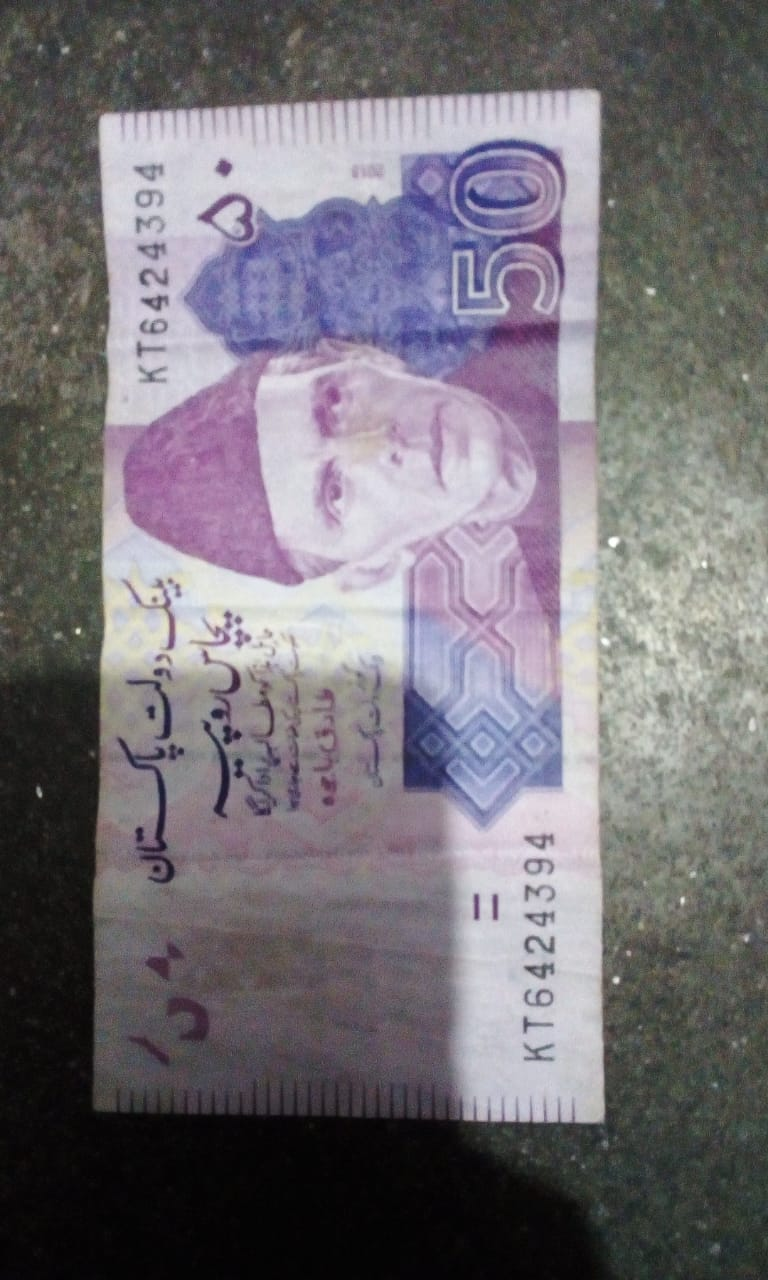50 rupee: (65, 93, 635, 1179)
